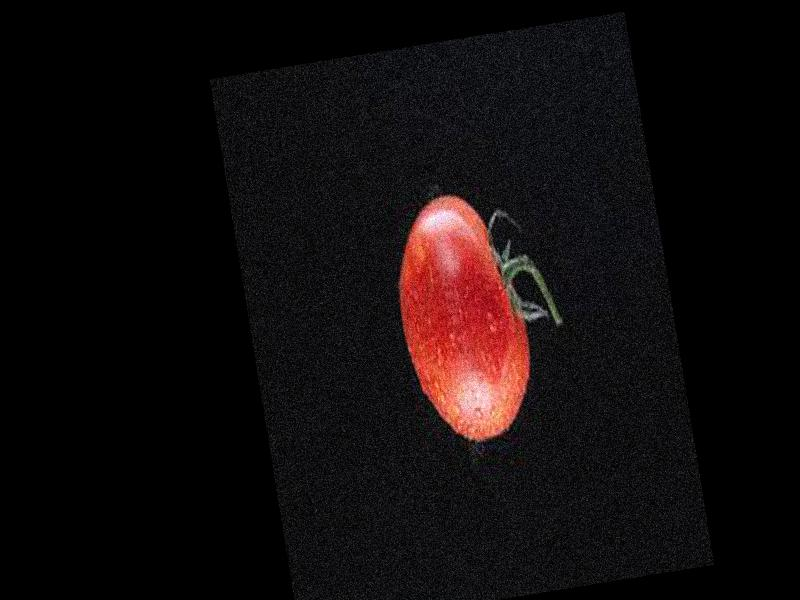Tomato: (383, 186, 543, 451)
